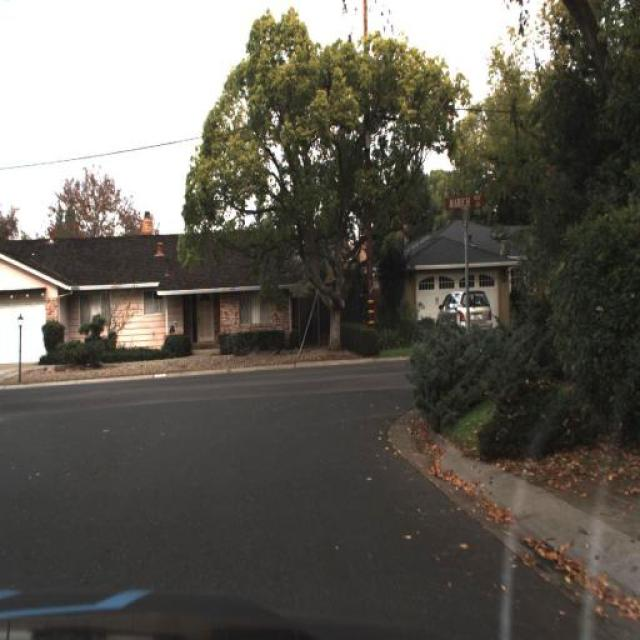car: (436, 289, 493, 335)
